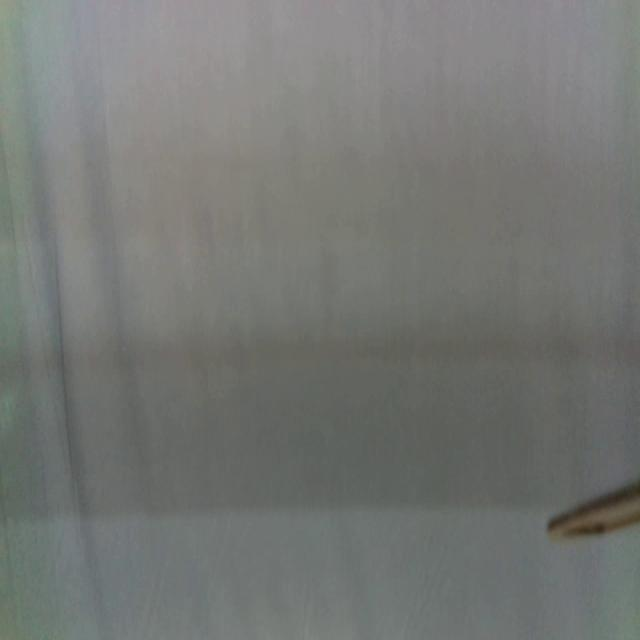color bleeding: (0, 313, 551, 524)
crease: (54, 230, 76, 498)
